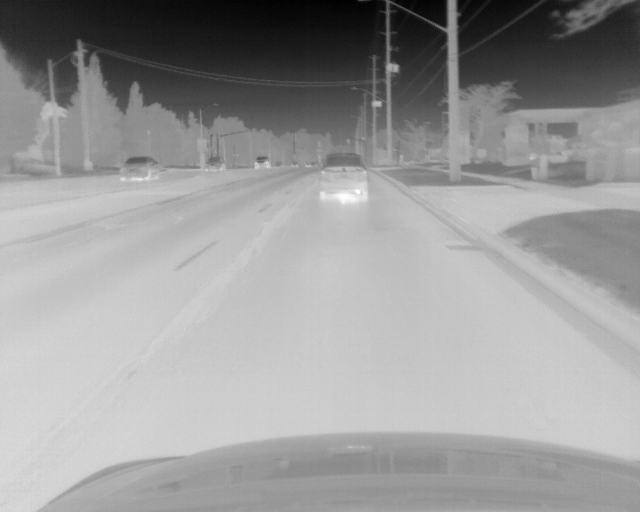car: (319, 153, 369, 202), (120, 157, 159, 180), (206, 156, 225, 173), (254, 157, 269, 167)
